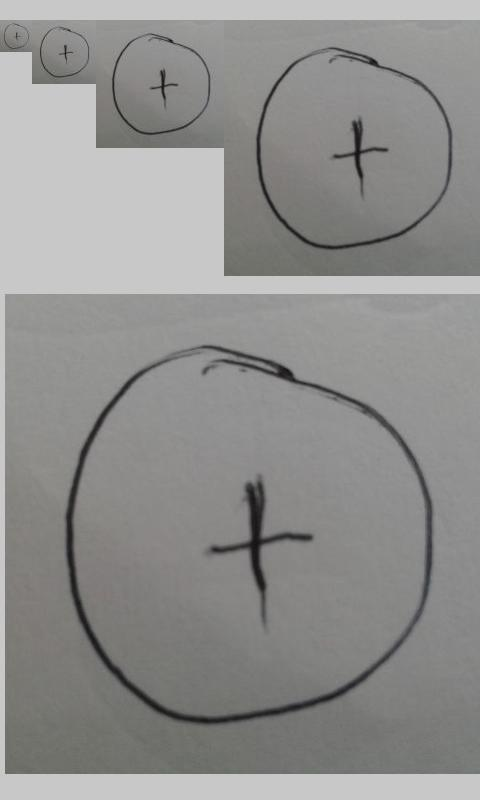button: (61, 342, 436, 729), (255, 45, 454, 250), (111, 32, 212, 135), (39, 26, 90, 78), (3, 22, 30, 50)
